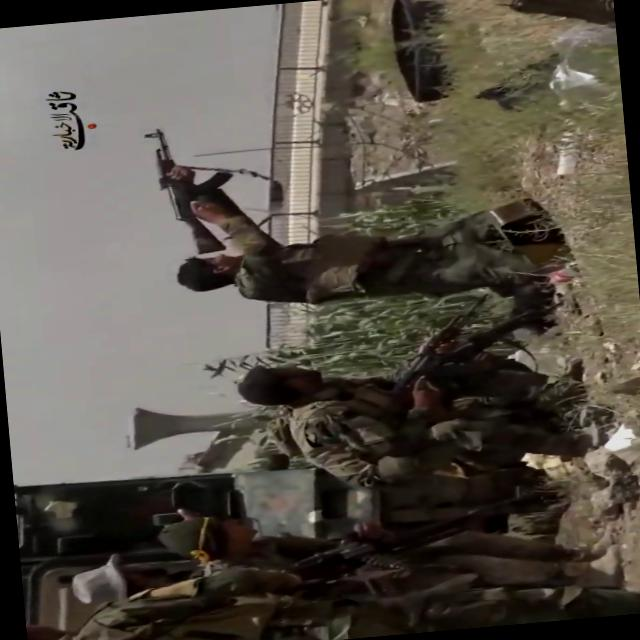long weapon: (124, 109, 281, 262), (375, 288, 510, 403)
